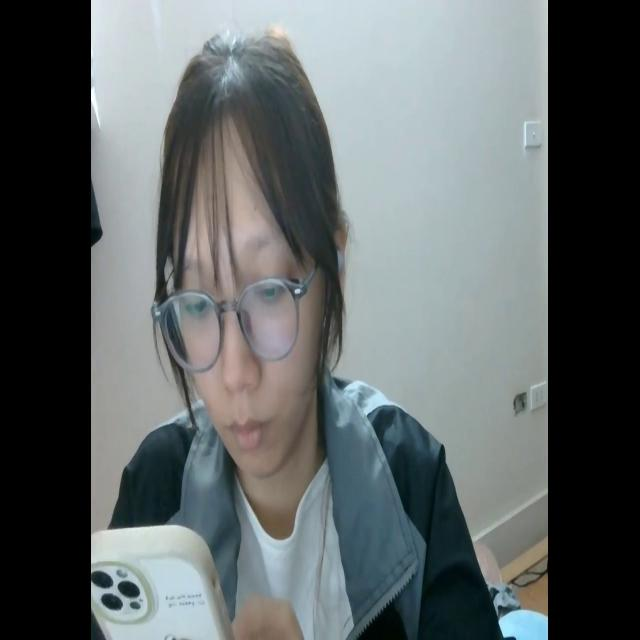phone: (91, 517, 235, 640)
student: (108, 23, 500, 640)
